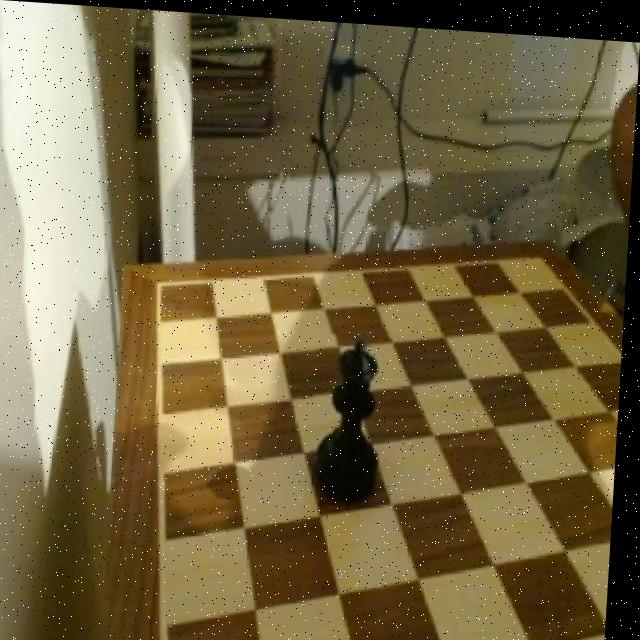black-pawn: (311, 330, 396, 511)
